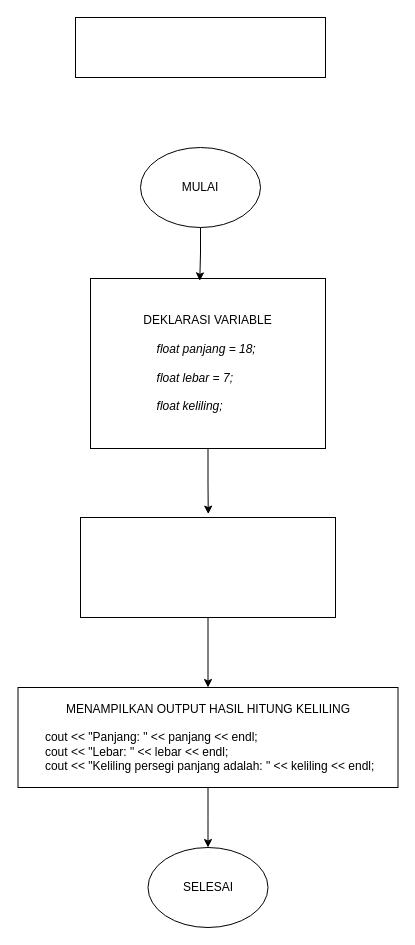
The diagram is 415 pixels wide and 945 high, and some of its shapes have lost their labels. The box of each missing label's shape, as (x1, y1, x2, y2) in pixels:
FLOWCHART MENGHITUNG KELILING BANGUN DATAR PERSEGI PANJANG: (74, 16, 326, 78)
HITUNG KELILING PERSEGI PANJANG keliling = 2 * (panjang + lebar);: (80, 516, 336, 618)
